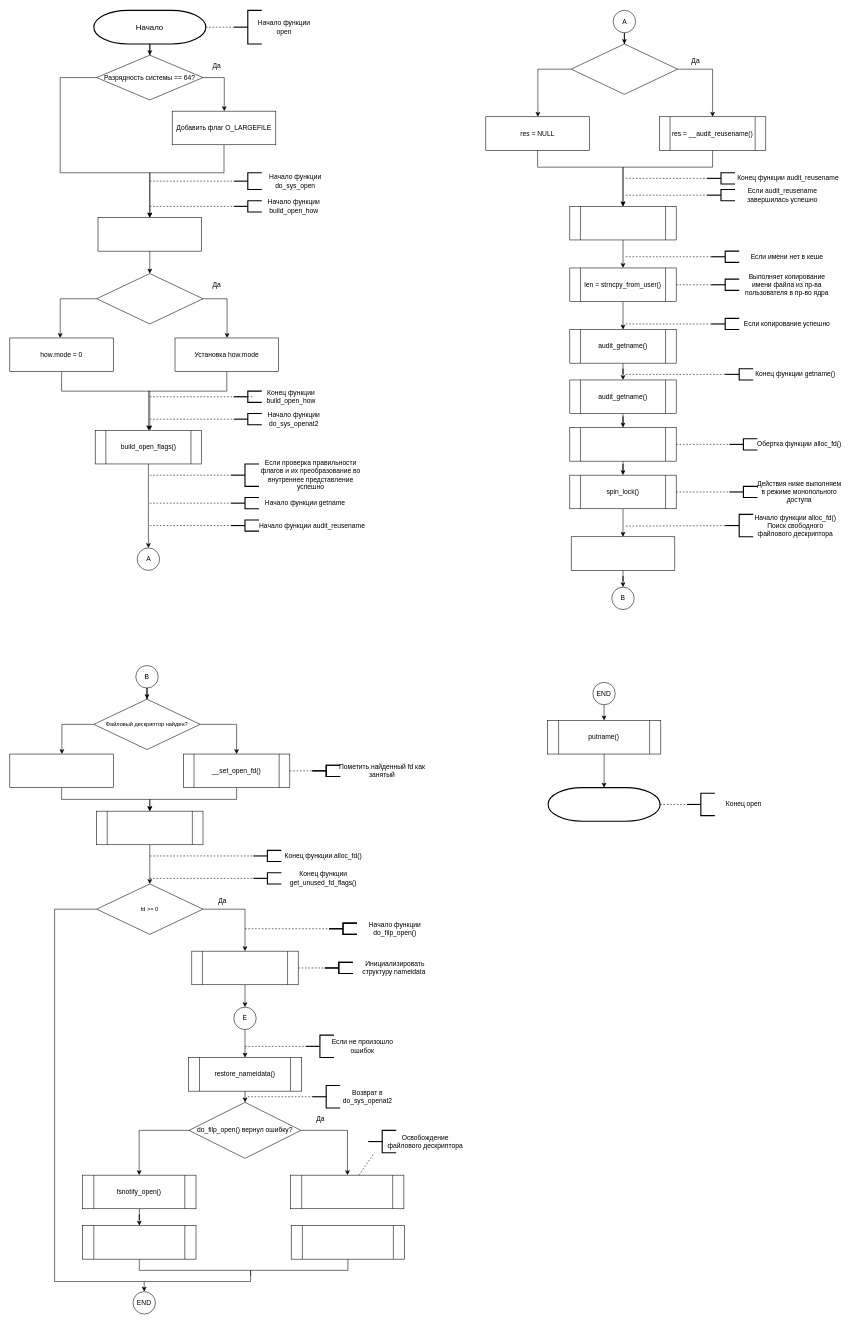
Image size: 854x1324. Some labels were removed from this diagram. Here are the shapes that lost their labels. From the top down, the centre of each, then its label:
At (x=624, y=68): "В списке audit_names содержится текущий контекст аудита?".
At (x=149, y=234): "Создание и заполнение структуры open_how".
At (x=622, y=223): "result = __getname()".
At (x=149, y=298): "Флаг O_CREATE или O_TMPFILE установлен?".
At (x=622, y=444): "fd = get_unused_fd_flags()".
At (x=623, y=553): "Поиск свободного файлового дескриптора".
At (x=61, y=770): "fd = error".
At (x=603, y=804): "Конец".
At (x=149, y=828): "spin_unlock()".
At (x=244, y=968): "set_nameidata()".
At (x=347, y=1192): "put_unused_fd()".
At (x=139, y=1242): "fd_install()".
At (x=348, y=1242): "fd=PTR_ERR()".
